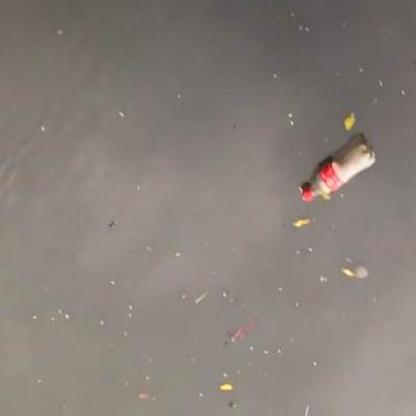plastic bottle: (302, 139, 376, 203)
